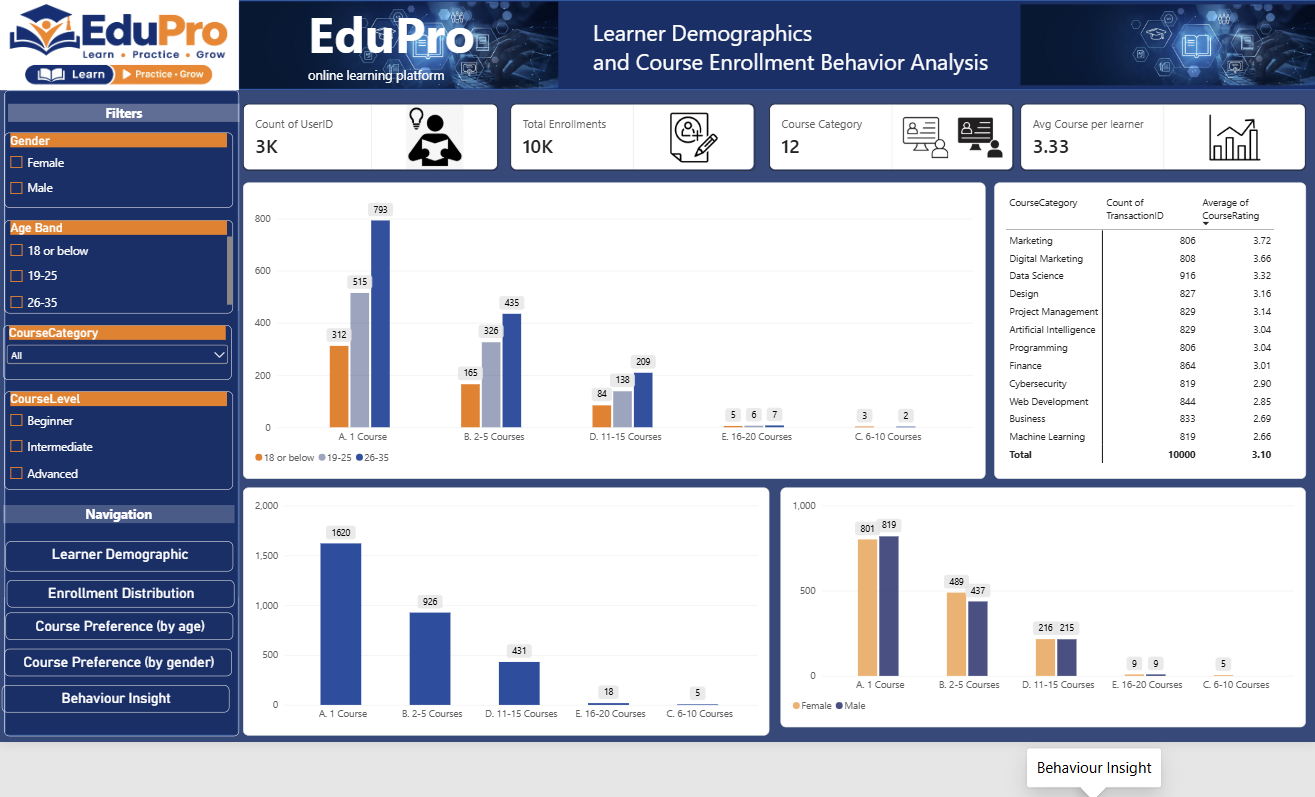

The dashboard page shown, as its layout file describes it:
{"tool":"powerbi","page":{"name":"Behaviour Insight","canvas":[1920,1080],"ordinal":4},"visuals":[{"type":"shape","box":[350.6,0,1569.8,130.8],"z":0},{"type":"image","box":[350.6,0,464,130.8],"z":1000},{"type":"cardVisual","fields":{"Data":["EduPro Online Platform Transactions.Total Enrollments"]},"box":[744.8,150,355.8,97.7],"z":2000},{"type":"cardVisual","fields":{"Data":["Count(EduPro Online Platform Users.UserID)"]},"box":[355.8,150,371.5,97.7],"z":3000},{"type":"shape","box":[8.7,130.8,341.9,940.1],"z":4000},{"type":"image","box":[0,0,350.6,130.8],"z":5000},{"type":"textbox","box":[865.1,26.2,941.9,97.7],"z":6000},{"type":"image","box":[1487.8,0,432.6,130.8],"z":7000},{"type":"textbox","box":[450,0,334.9,150],"z":8000},{"type":"pivotTable","fields":{"Rows":["EduPro Online Platform Courses.CourseCategory"],"Values":["Count(EduPro Online Platform Transactions.TransactionID)","Avg(EduPro Online Platform Courses.CourseRating)"]},"box":[1449.4,265.1,453.5,430.8],"z":9000},{"type":"clusteredColumnChart","fields":{"Category":["EduPro Online Platform Users.Enrollment Segment"],"Series":["EduPro Online Platform Users.Age Band"],"Y":["CountNonNull(EduPro Online Platform Users.UserID)"]},"box":[355.8,265.1,1079.7,430.8],"z":10000},{"type":"clusteredColumnChart","fields":{"Category":["EduPro Online Platform Users.Enrollment Segment"],"Series":["EduPro Online Platform Users.Gender"],"Y":["CountNonNull(EduPro Online Platform Users.UserID)"]},"box":[1139,709.9,764,348.8],"z":11000},{"type":"columnChart","fields":{"Category":["EduPro Online Platform Users.Enrollment Segment"],"Y":["Count(EduPro Online Platform Users.UserID)"]},"box":[355.8,709.9,765.7,361],"z":12000},{"type":"cardVisual","fields":{"Data":["Count(EduPro Online Platform Courses.CourseCategory)"]},"box":[1121.5,150,355.8,97.7],"z":13000},{"type":"cardVisual","fields":{"Data":["EduPro Online Platform Courses.Avg Course taken per learner"]},"box":[1487.8,150,415.1,97.7],"z":14000},{"type":"slicer","fields":{"Values":["EduPro Online Platform Users.Gender"]},"box":[8.7,191.9,333.1,109.9],"z":15000},{"type":"slicer","fields":{"Values":["EduPro Online Platform Users.Age Band"]},"box":[8.7,319.2,333.1,136],"z":16000},{"type":"slicer","fields":{"Values":["EduPro Online Platform Courses.CourseCategory"]},"box":[7,472.7,333.1,80.2],"z":17000},{"type":"slicer","fields":{"Values":["EduPro Online Platform Courses.CourseLevel"]},"box":[8.7,568.6,333.1,143],"z":18000},{"type":"textbox","box":[14,150,336.6,26.2],"z":19000},{"type":"textbox","box":[7,734.3,336.6,26.2],"z":20000},{"type":"actionButton","title":"Enrollment Distribution","box":[12.2,844.2,331.4,40.1],"z":21000},{"type":"actionButton","title":"Learner Demographic","box":[10.5,786.6,331.4,43.6],"z":22000},{"type":"actionButton","title":"Course Preference (by age)","box":[10.5,891.3,331.4,40.1],"z":23000},{"type":"actionButton","title":"Course Preference (by gender)","box":[8.7,943.6,331.4,40.1],"z":24000},{"type":"actionButton","title":"Behaviour Insight","box":[5.2,995.9,331.4,40.1],"z":25000}]}

Visuals, with their boxes on the page's 1920x1080 design canvas (x1, y1, x2, y2). These are canvas units, not pixel positions in the 1315x797 screenshot, which may show the page scaled, cropped or inside an application window:
shape: {"left": 351, "top": 0, "right": 1920, "bottom": 131}
image: {"left": 351, "top": 0, "right": 815, "bottom": 131}
cardVisual - EduPro Online Platform Transactions.Total Enrollments: {"left": 745, "top": 150, "right": 1101, "bottom": 248}
cardVisual - Count(EduPro Online Platform Users.UserID): {"left": 356, "top": 150, "right": 727, "bottom": 248}
shape: {"left": 9, "top": 131, "right": 351, "bottom": 1071}
image: {"left": 0, "top": 0, "right": 351, "bottom": 131}
textbox: {"left": 865, "top": 26, "right": 1807, "bottom": 124}
image: {"left": 1488, "top": 0, "right": 1920, "bottom": 131}
textbox: {"left": 450, "top": 0, "right": 785, "bottom": 150}
pivotTable - EduPro Online Platform Courses.CourseCategory x Count(EduPro Online Platform Transactions.TransactionID): {"left": 1449, "top": 265, "right": 1903, "bottom": 696}
clusteredColumnChart - EduPro Online Platform Users.Enrollment Segment x EduPro Online Platform Users.Age Band: {"left": 356, "top": 265, "right": 1436, "bottom": 696}
clusteredColumnChart - EduPro Online Platform Users.Enrollment Segment x EduPro Online Platform Users.Gender: {"left": 1139, "top": 710, "right": 1903, "bottom": 1059}
columnChart - EduPro Online Platform Users.Enrollment Segment x Count(EduPro Online Platform Users.UserID): {"left": 356, "top": 710, "right": 1122, "bottom": 1071}
cardVisual - Count(EduPro Online Platform Courses.CourseCategory): {"left": 1122, "top": 150, "right": 1477, "bottom": 248}
cardVisual - EduPro Online Platform Courses.Avg Course taken per learner: {"left": 1488, "top": 150, "right": 1903, "bottom": 248}
slicer - EduPro Online Platform Users.Gender: {"left": 9, "top": 192, "right": 342, "bottom": 302}
slicer - EduPro Online Platform Users.Age Band: {"left": 9, "top": 319, "right": 342, "bottom": 455}
slicer - EduPro Online Platform Courses.CourseCategory: {"left": 7, "top": 473, "right": 340, "bottom": 553}
slicer - EduPro Online Platform Courses.CourseLevel: {"left": 9, "top": 569, "right": 342, "bottom": 712}
textbox: {"left": 14, "top": 150, "right": 351, "bottom": 176}
textbox: {"left": 7, "top": 734, "right": 344, "bottom": 760}
"Enrollment Distribution" actionButton: {"left": 12, "top": 844, "right": 344, "bottom": 884}
"Learner Demographic" actionButton: {"left": 10, "top": 787, "right": 342, "bottom": 830}
"Course Preference (by age)" actionButton: {"left": 10, "top": 891, "right": 342, "bottom": 931}
"Course Preference (by gender)" actionButton: {"left": 9, "top": 944, "right": 340, "bottom": 984}
"Behaviour Insight" actionButton: {"left": 5, "top": 996, "right": 337, "bottom": 1036}
